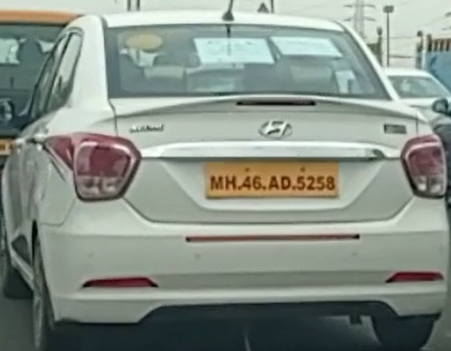MH46AD5258: (203, 160, 341, 199)
